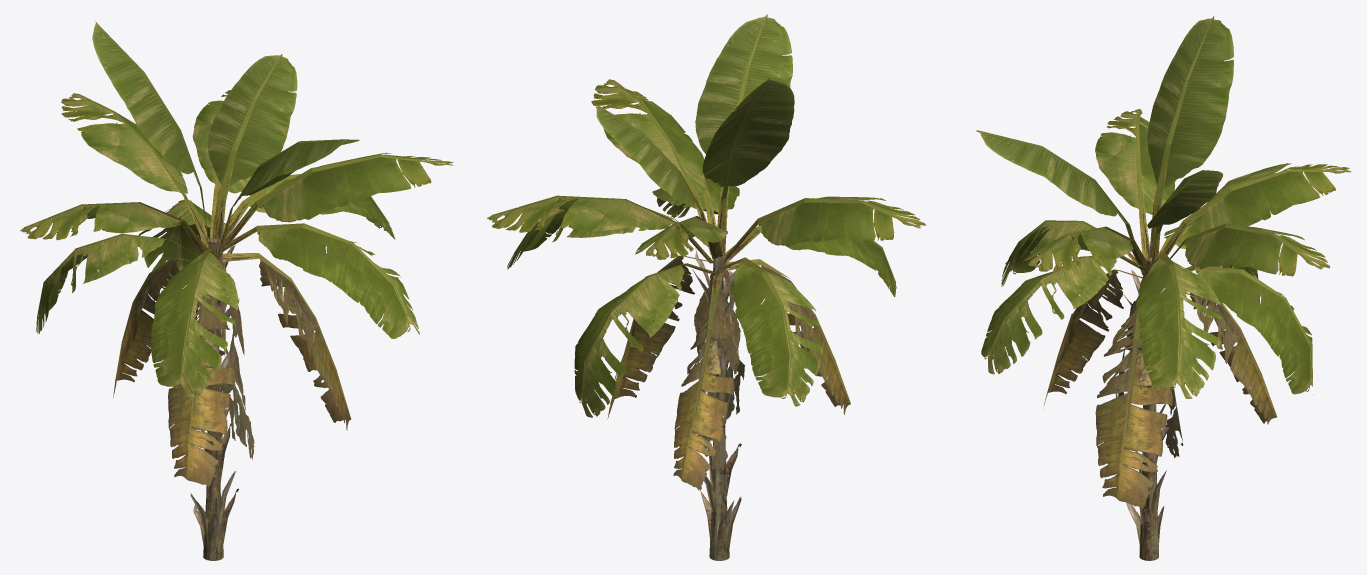
File: BananaTree_LOD3.fbx
The picture shows the model from 3 angles, left to right: view 1: azimuth 30°, elevation 25°; view 2: azimuth 150°, elevation 25°; view 3: azimuth 270°, elevation 25°; orthographic projection. The views are drawn at different scales.
Parts seen in each view (by area): view 1: banana_plant_1, banana_plant_0; view 2: banana_plant_1, banana_plant_0; view 3: banana_plant_1, banana_plant_0.
Part boxes in pixels (x1,y1,x2,y2): banana_plant_1: (20, 21, 453, 554); banana_plant_0: (46, 56, 451, 560); banana_plant_1: (487, 14, 926, 554); banana_plant_0: (556, 17, 916, 560); banana_plant_1: (976, 16, 1351, 550); banana_plant_0: (1010, 19, 1350, 560).
Bounding box in the file's own units: 264 × 337 × 235.
Materials: 1 (1 with a texture image).
